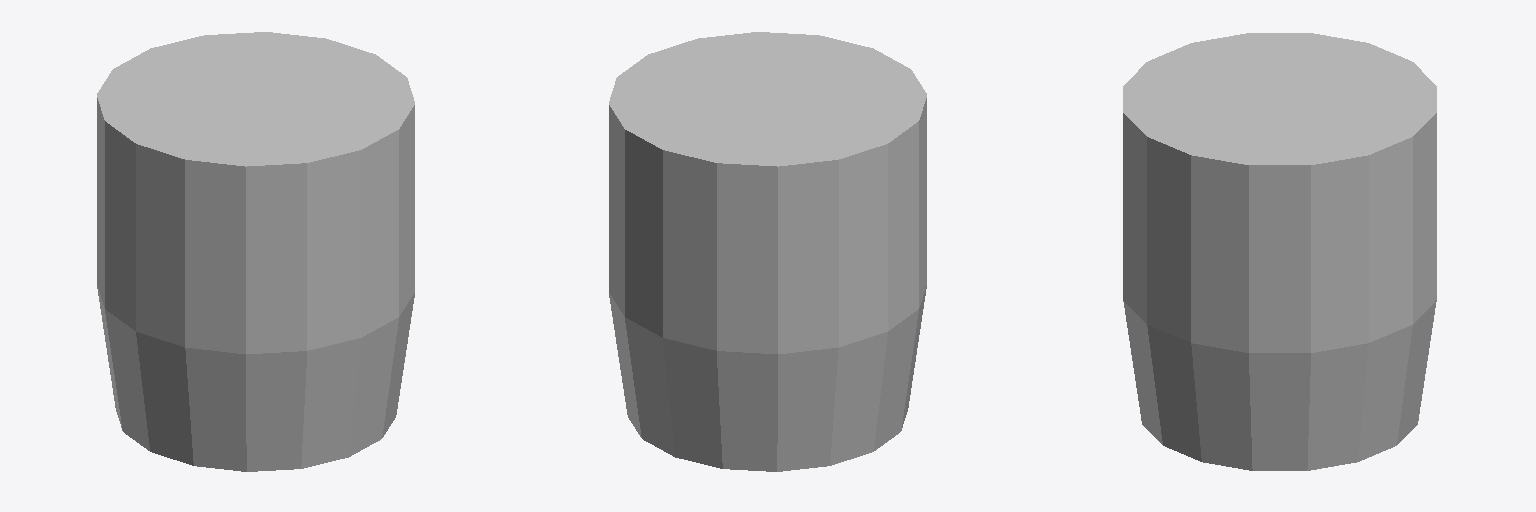
The model's file is Prince_Engine_A_Collider.obj.
The picture shows the model from 3 angles: view 1: azimuth 30°, elevation 25°; view 2: azimuth 150°, elevation 25°; view 3: azimuth 270°, elevation 25°; orthographic projection.
Visible parts, largest first — view 1: Prince_Engine_A_Collider; view 2: Prince_Engine_A_Collider; view 3: Prince_Engine_A_Collider.
Part boxes in pixels (left/top/right/bottom): Prince_Engine_A_Collider: left=97, top=32, right=414, bottom=471; Prince_Engine_A_Collider: left=609, top=32, right=926, bottom=471; Prince_Engine_A_Collider: left=1123, top=33, right=1436, bottom=470.
Size of the model in its own units: 1.88 by 2.07 by 1.88.